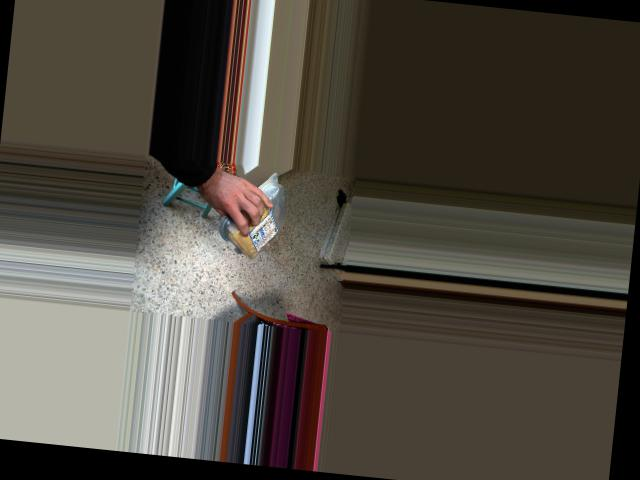cheese: (232, 168, 284, 271)
